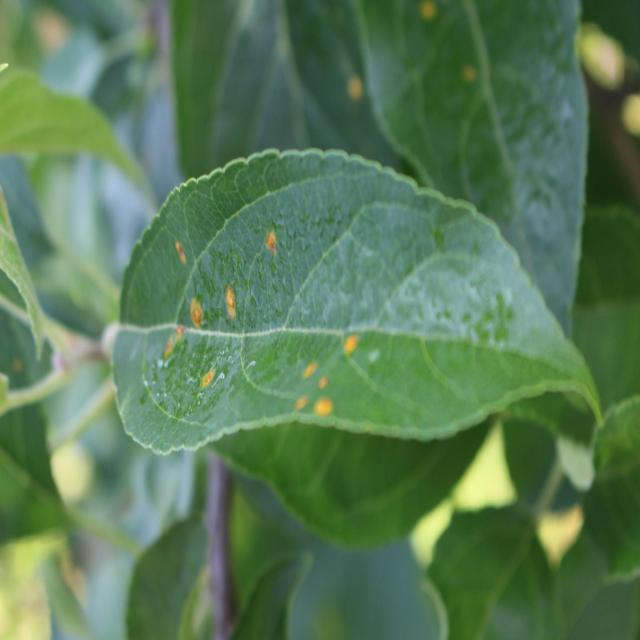Rust: (186, 279, 207, 344), (164, 313, 186, 369), (287, 380, 313, 425), (217, 282, 243, 322), (297, 335, 317, 386), (172, 232, 193, 275), (258, 227, 281, 263), (343, 330, 363, 369), (193, 369, 220, 397), (311, 390, 334, 419), (317, 370, 332, 401)
